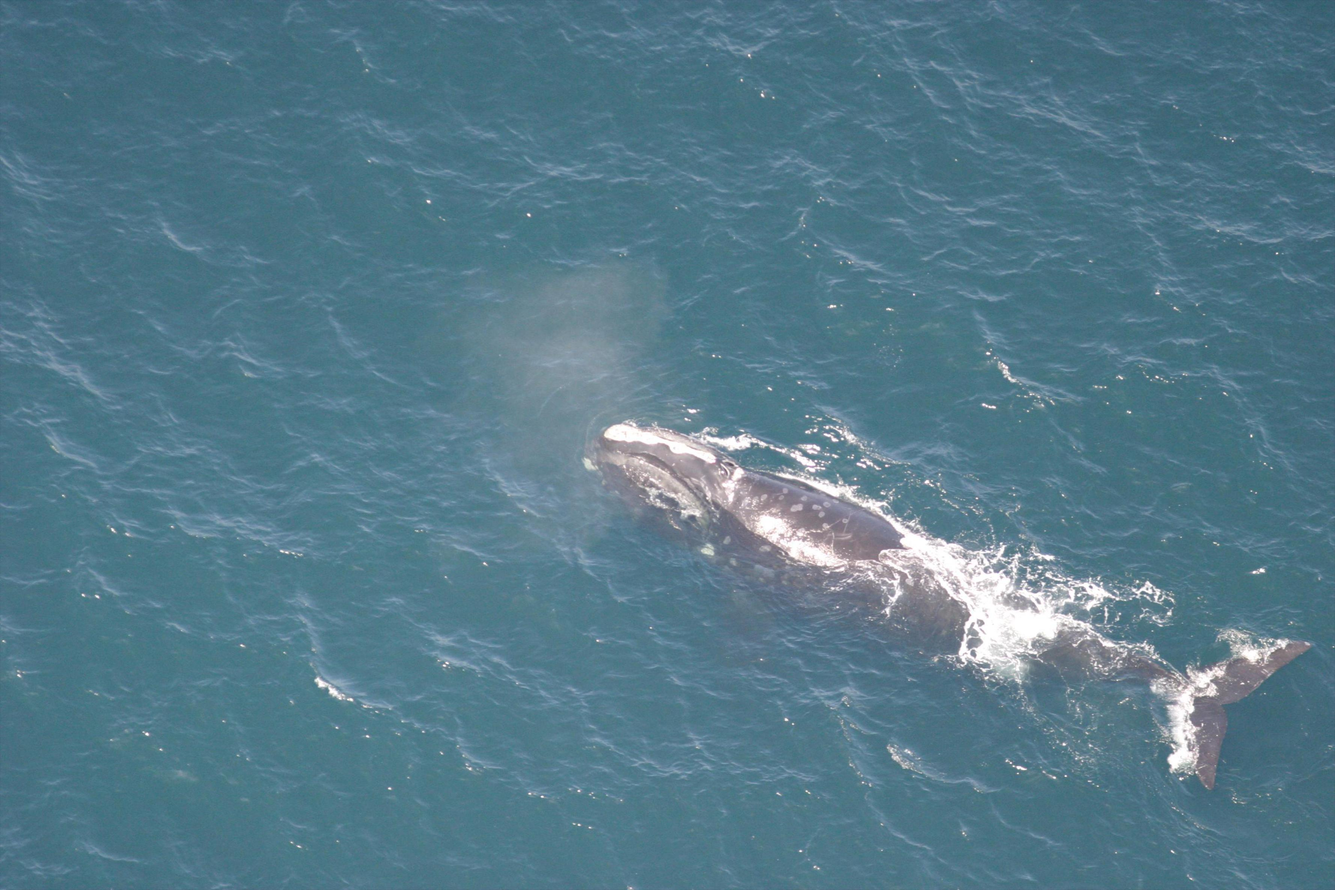whale: (577, 415, 1322, 795)
